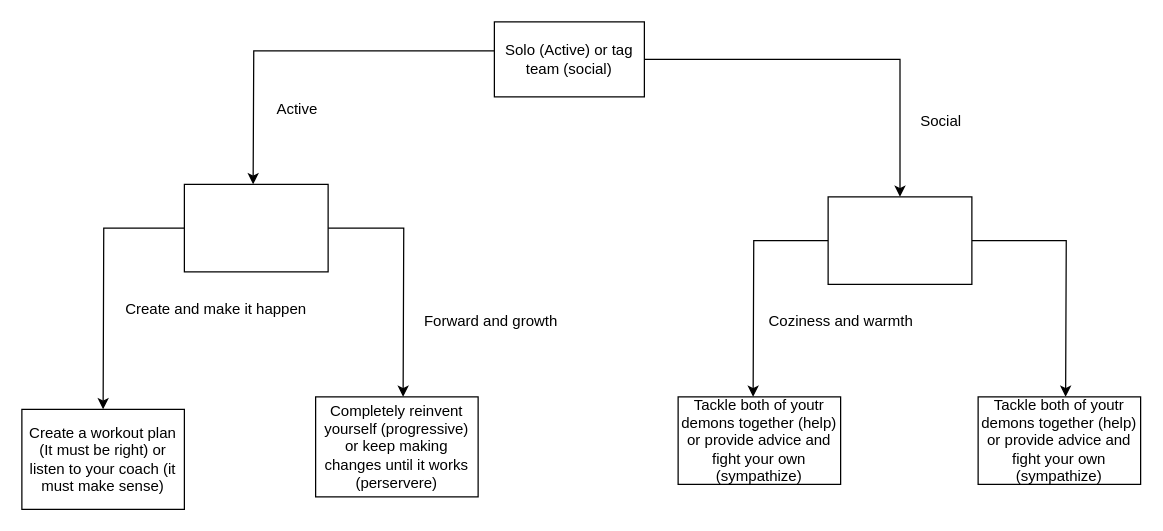
This 1163x531 diagram has some shape labels left out. The centre of each missing label's shape, as x and y in pixels:
"Help your partner (Coziness and warmth) or continue without them (Surprising)" goes at [899,240].
"Train (Create and make it happen) or change your character (Forward and growth)" goes at [255,227].
